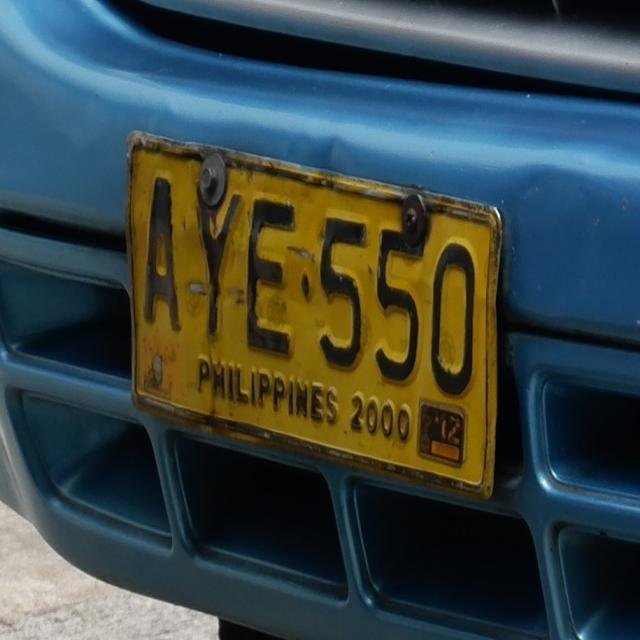LicensePlate: (118, 122, 509, 501)
